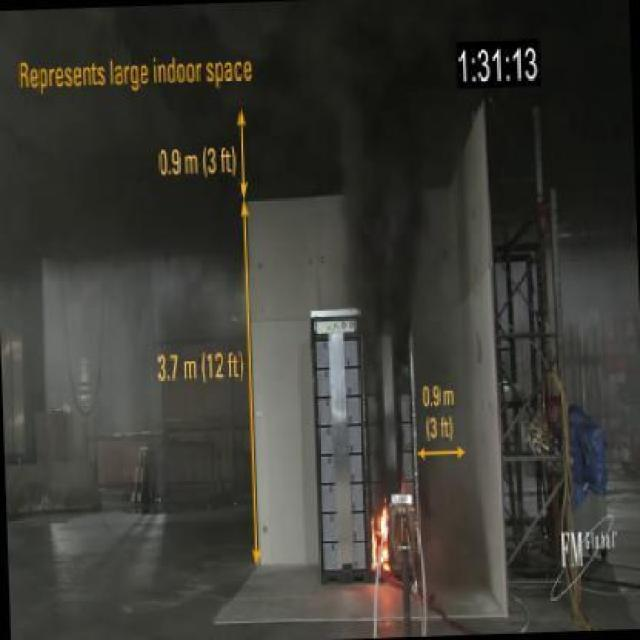fire: (330, 64, 432, 300)
smoke: (369, 504, 394, 574)
